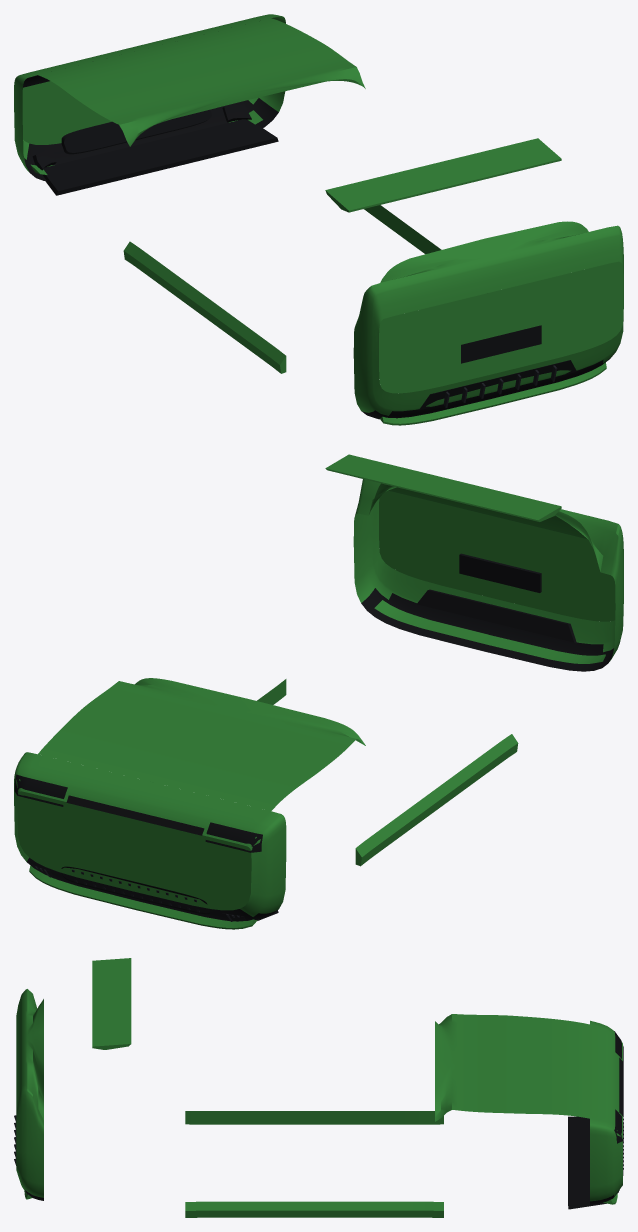
File: kit_street.glb
The picture shows the model from 3 angles, top to bottom: view 1: azimuth 30°, elevation 25°; view 2: azimuth 150°, elevation 25°; view 3: azimuth 270°, elevation 25°; orthographic projection. The views are drawn at different scales.
Visible parts, largest first — view 1: bumper_front__street, bumper_rear__street, hood__street, spoiler__street, skirts__street; view 2: bumper_front__street, hood__street, bumper_rear__street, spoiler__street, skirts__street; view 3: hood__street, skirts__street, bumper_front__street, bumper_rear__street, spoiler__street.
Part boxes in pixels (bbox=[...]): bumper_front__street: bbox=[14, 14, 623, 393]; bumper_rear__street: bbox=[353, 221, 623, 425]; hood__street: bbox=[38, 18, 365, 146]; spoiler__street: bbox=[325, 138, 561, 212]; skirts__street: bbox=[123, 205, 441, 373]; bumper_front__street: bbox=[14, 491, 615, 929]; hood__street: bbox=[38, 678, 365, 810]; bumper_rear__street: bbox=[353, 479, 623, 671]; spoiler__street: bbox=[325, 454, 561, 521]; skirts__street: bbox=[257, 679, 518, 866]; hood__street: bbox=[435, 1014, 589, 1121]; skirts__street: bbox=[185, 1111, 443, 1217]; bumper_front__street: bbox=[568, 1020, 623, 1209]; bumper_rear__street: bbox=[14, 989, 43, 1200]; spoiler__street: bbox=[92, 958, 131, 1049].
Size of what is drawn, in the model's own units: 1.76 by 1.31 by 4.27.
